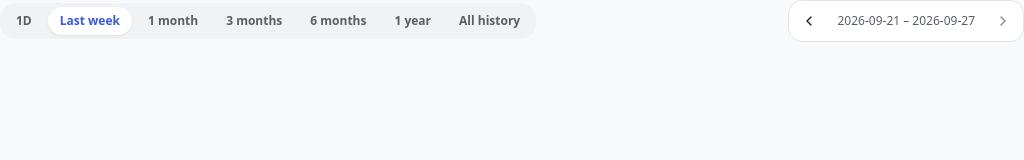
Test: moves a week backward and forward and disables future periods
This screenshot has width=1024, height=160.
Expected: the button named "Next period" is disabled, [987, 5, 1019, 37]
Step 1. Click the button named "Previous period" → (810, 21), box [794, 5, 826, 37]
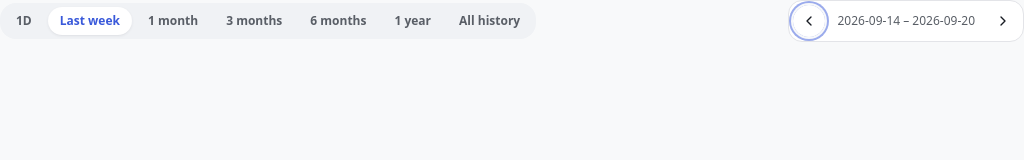
Result: the text "2026-09-14 – 2026-09-20" is shown at [830, 13, 983, 29]
Step 2. Click the button named "Next period" → (1003, 21), box [987, 5, 1019, 37]
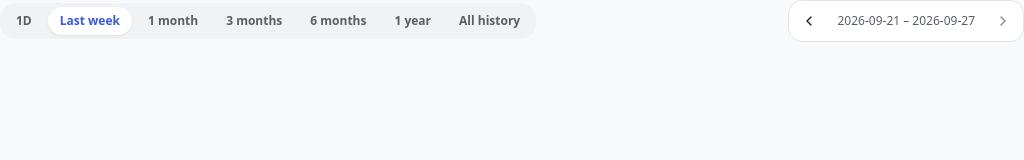
Result: the text "2026-09-21 – 2026-09-27" is shown at [830, 13, 983, 29]
Step 3. Click the button "1D" → (24, 21), box [4, 7, 44, 35]
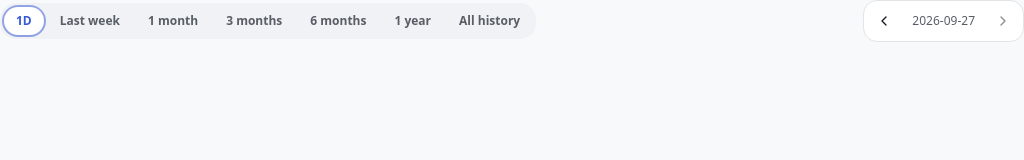
Step 4. Click the button named "Previous period" → (884, 21), box [868, 5, 900, 37]
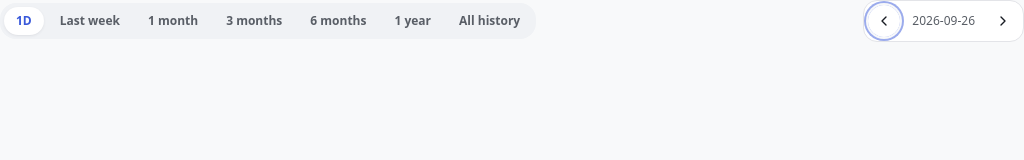
Result: the text "2026-09-26" is shown at [912, 12, 975, 29]
Step 5. Click the button named "Next period" → (1003, 21), box [987, 5, 1019, 37]
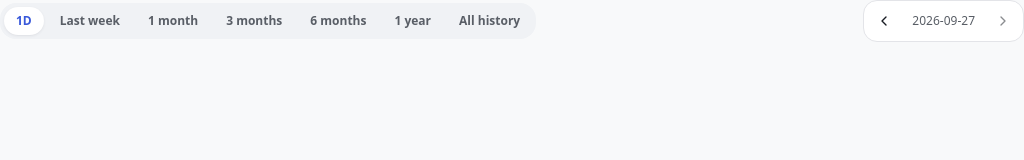
Result: the text "2026-09-27" is shown at [912, 12, 975, 29]
